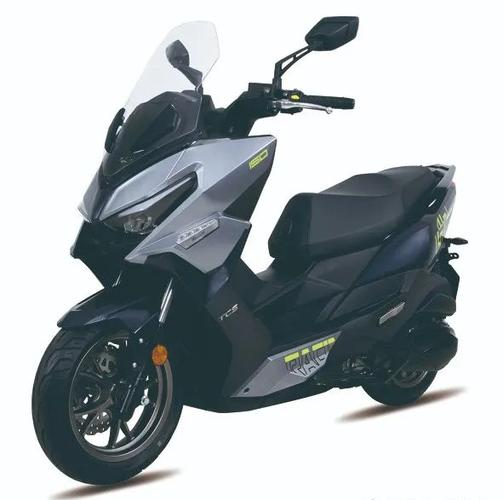摩托车: (22, 11, 478, 495)
